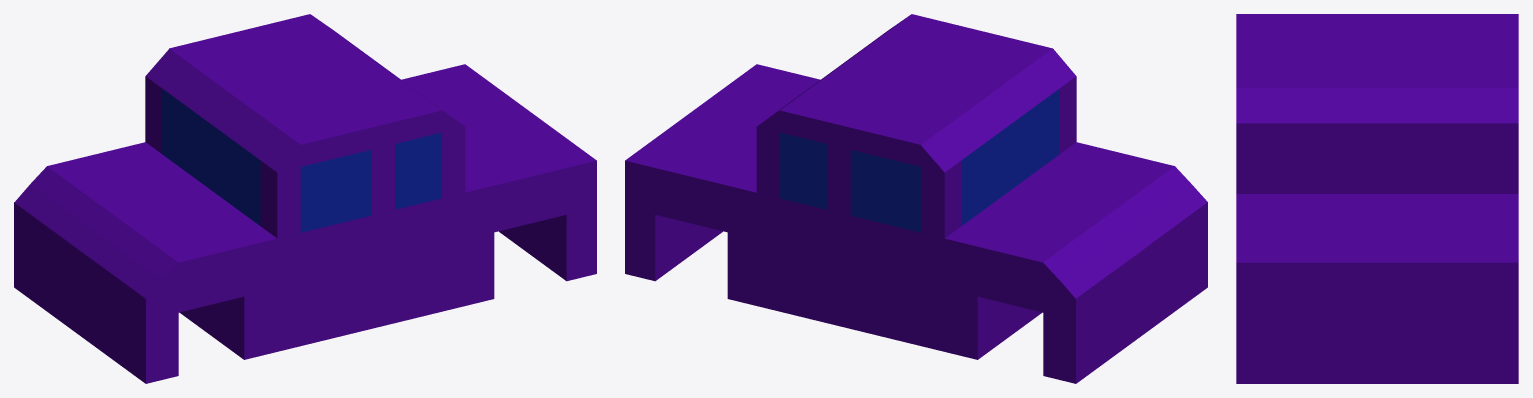
The model's file is Body3.obj.
3 views of the same model, side by side, from view 1: azimuth 30°, elevation 25°; view 2: azimuth 150°, elevation 25°; view 3: azimuth 270°, elevation 25° (orthographic). The views are drawn at different scales.
Visible parts, largest first — view 1: Cube.009_Cube.010; view 2: Cube.009_Cube.010; view 3: Cube.009_Cube.010.
Part boxes in pixels (box(x1,y1,x2,y2)): Cube.009_Cube.010: box(14, 14, 596, 383); Cube.009_Cube.010: box(625, 14, 1207, 383); Cube.009_Cube.010: box(1236, 14, 1518, 383).
Bounding box in the file's own units: 3.95 × 1.69 × 2.
